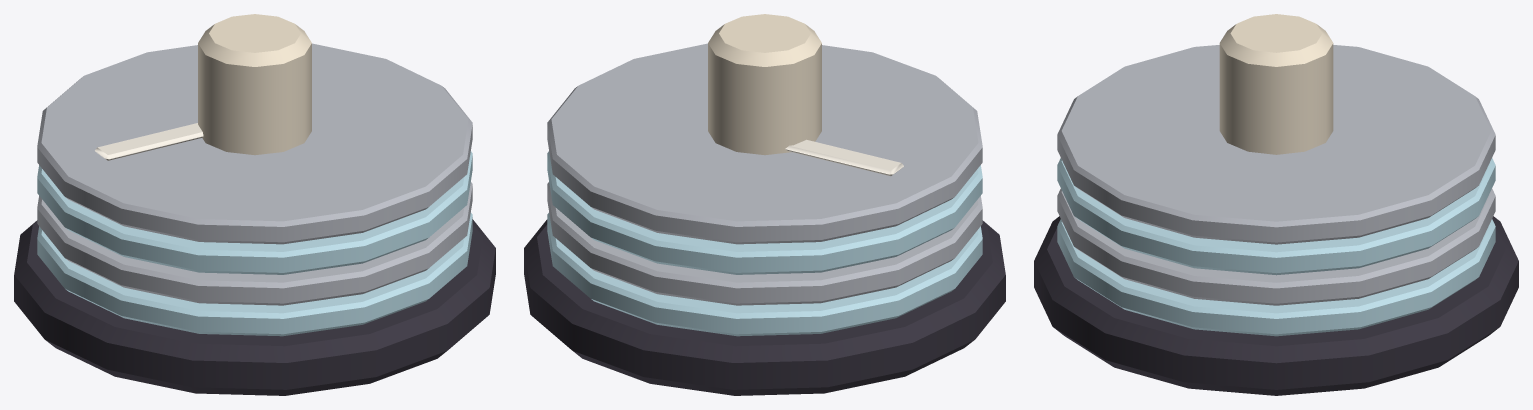
File: era_cd_spindle.glb
The picture shows the model from 3 angles, left to right: view 1: azimuth 30°, elevation 25°; view 2: azimuth 150°, elevation 25°; view 3: azimuth 270°, elevation 25°; orthographic projection.
Parts seen in each view (by area): view 1: era_cd_spindle; view 2: era_cd_spindle; view 3: era_cd_spindle.
Part boxes in pixels (left/top/right/bottom): era_cd_spindle: left=14, top=14, right=495, bottom=395; era_cd_spindle: left=524, top=14, right=1005, bottom=395; era_cd_spindle: left=1034, top=14, right=1518, bottom=395.
Size of the model in its own units: 0.23 by 0.139 by 0.23.
